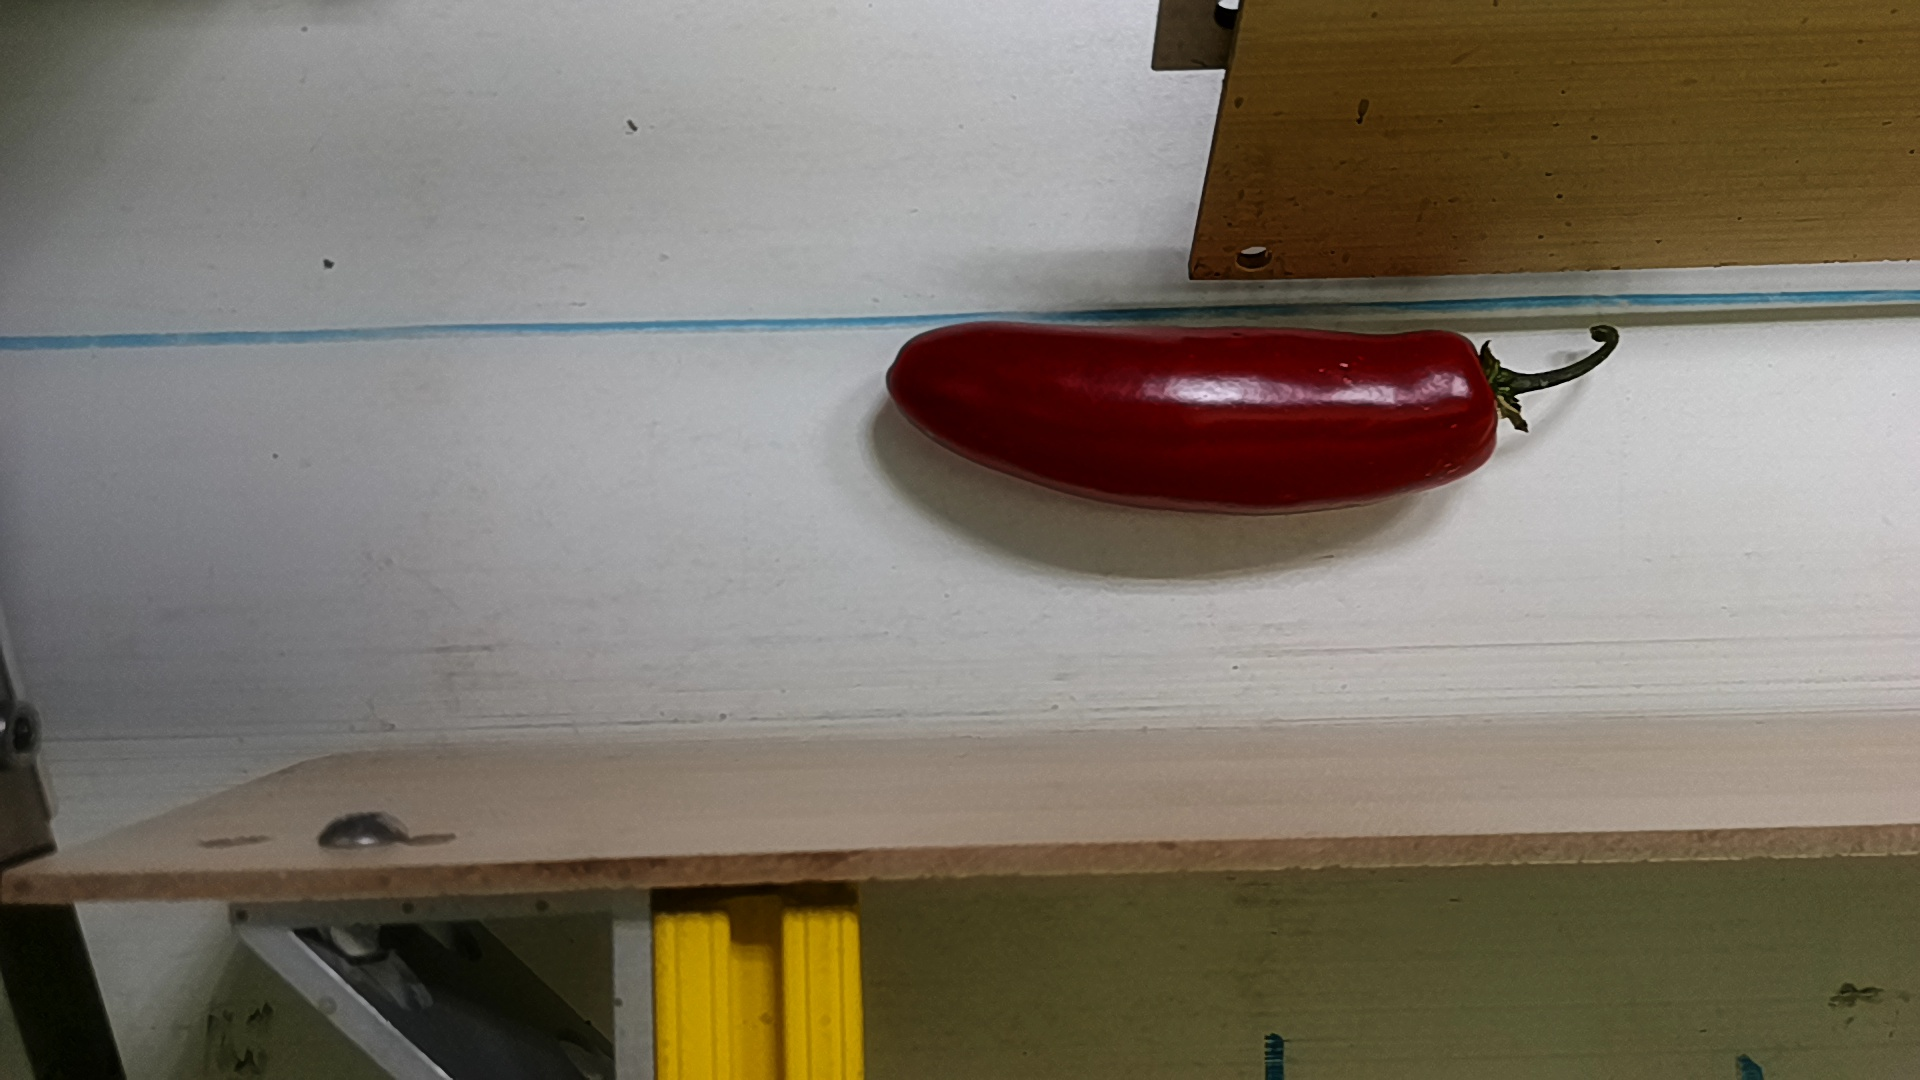Cut Point: (1429, 316, 1531, 483)
